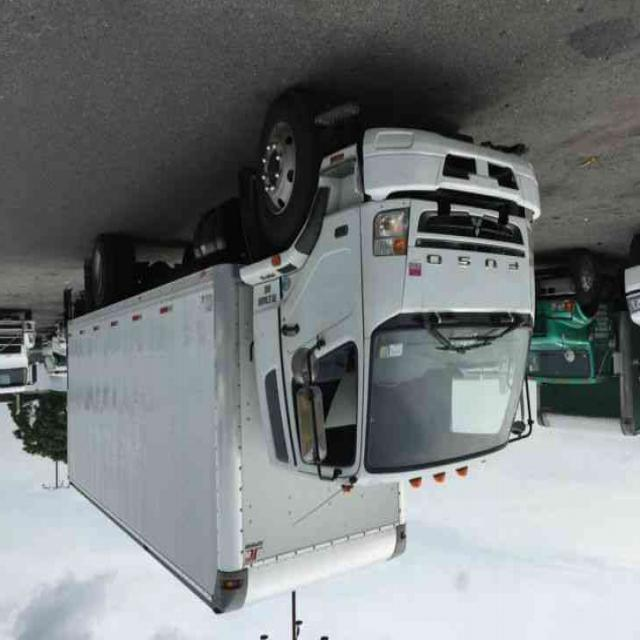truck: (68, 98, 542, 616)
